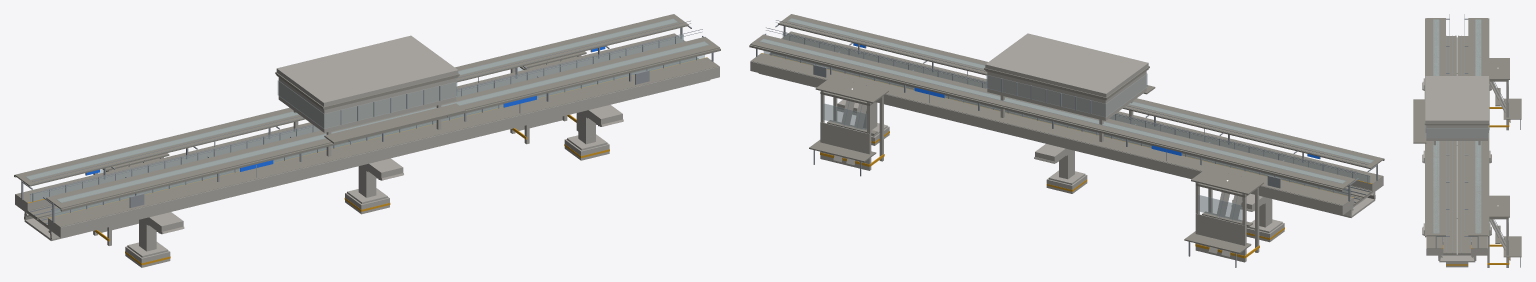
File: rail_station.glb
3 renders of one model, left to right at view 1: azimuth 30°, elevation 25°; view 2: azimuth 150°, elevation 25°; view 3: azimuth 270°, elevation 25°, orthographic. The views are drawn at different scales.
Visible parts, largest first — view 1: Rail_ConcreteDark, Rail_Concrete, Rail_Glass, Rail_Steel, Rail_Warn; view 2: Rail_ConcreteDark, Rail_Concrete, Rail_Glass, Rail_Steel, Rail_Warn; view 3: Rail_ConcreteDark, Rail_Concrete, Rail_Glass, Rail_Steel, Rail_Warn.
Boxes of the visible parts, x1=… form: Rail_ConcreteDark: x1=14, y1=14, x2=720, y2=227; Rail_Concrete: x1=15, y1=35, x2=719, y2=267; Rail_Glass: x1=26, y1=18, x2=708, y2=217; Rail_Steel: x1=21, y1=20, x2=713, y2=223; Rail_Warn: x1=27, y1=57, x2=706, y2=265; Rail_ConcreteDark: x1=749, y1=14, x2=1384, y2=253; Rail_Concrete: x1=750, y1=33, x2=1383, y2=262; Rail_Glass: x1=760, y1=18, x2=1373, y2=221; Rail_Steel: x1=756, y1=20, x2=1377, y2=267; Rail_Warn: x1=761, y1=53, x2=1372, y2=258; Rail_ConcreteDark: x1=1413, y1=18, x2=1521, y2=257; Rail_Concrete: x1=1422, y1=37, x2=1510, y2=267; Rail_Glass: x1=1425, y1=19, x2=1508, y2=236; Rail_Steel: x1=1425, y1=14, x2=1520, y2=267; Rail_Warn: x1=1441, y1=107, x2=1509, y2=265.
Bounding box in the file's own units: 12.02 × 2.36 × 2.52.
